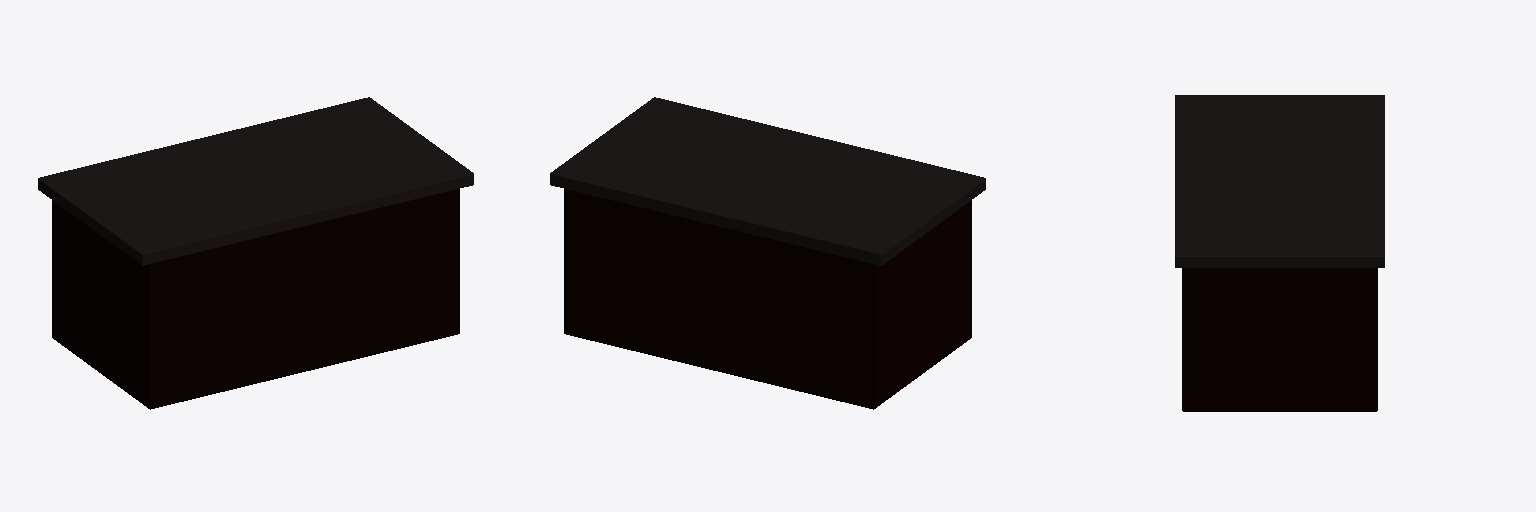
The model's file is ModernKitchenTable1.obj.
3 renders of one model, left to right at view 1: azimuth 30°, elevation 25°; view 2: azimuth 150°, elevation 25°; view 3: azimuth 270°, elevation 25°, orthographic.
Visible parts, largest first — view 1: ModernKitchenTable1_Cube; view 2: ModernKitchenTable1_Cube; view 3: ModernKitchenTable1_Cube.
Part boxes in pixels (x1,y1,x2,y2): ModernKitchenTable1_Cube: (38,97,473,409); ModernKitchenTable1_Cube: (550,97,985,409); ModernKitchenTable1_Cube: (1175,95,1384,411).
Bounding box in the file's own units: 2.12 × 0.9799 × 1.16.